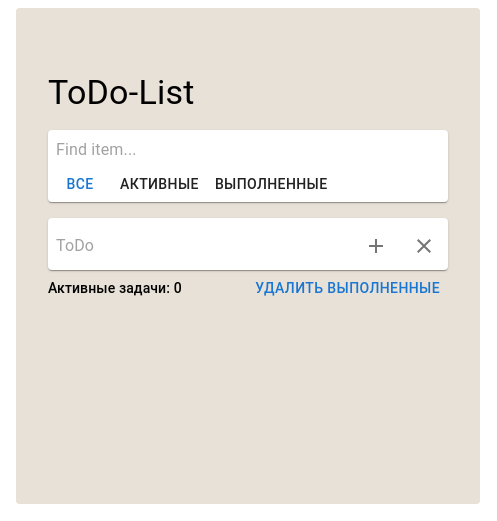
Test case: App › Добавление и удаление таски
The image size is (497, 521).
Type "Дело 1" into the element with test id "todoinput". click: (204, 246)
box: [56, 222, 352, 270]
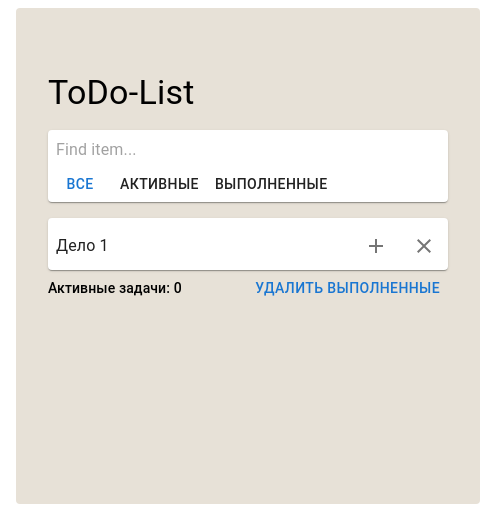
Click the button with test id "save". click: click(376, 246)
box: [352, 222, 400, 270]
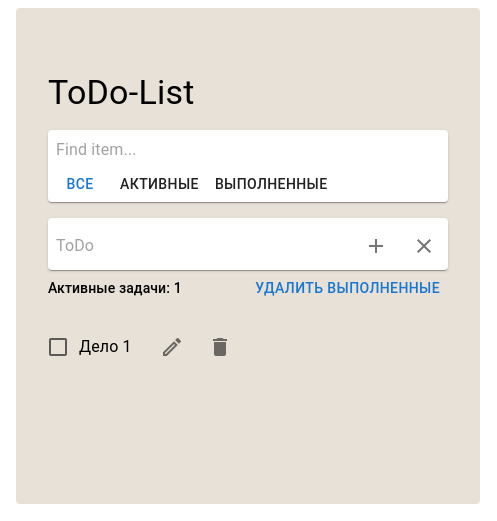
Expected: the text "Дело 1" is shown, [79, 335, 132, 359]
Click the button with test id "delete". click: click(220, 347)
box: [196, 323, 244, 371]
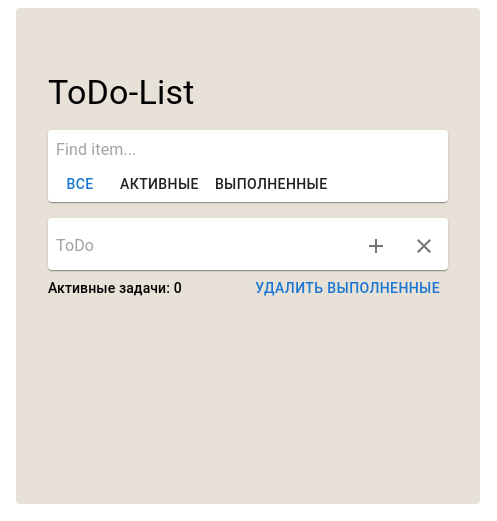
Expected: the text "Дело 1" is gone
